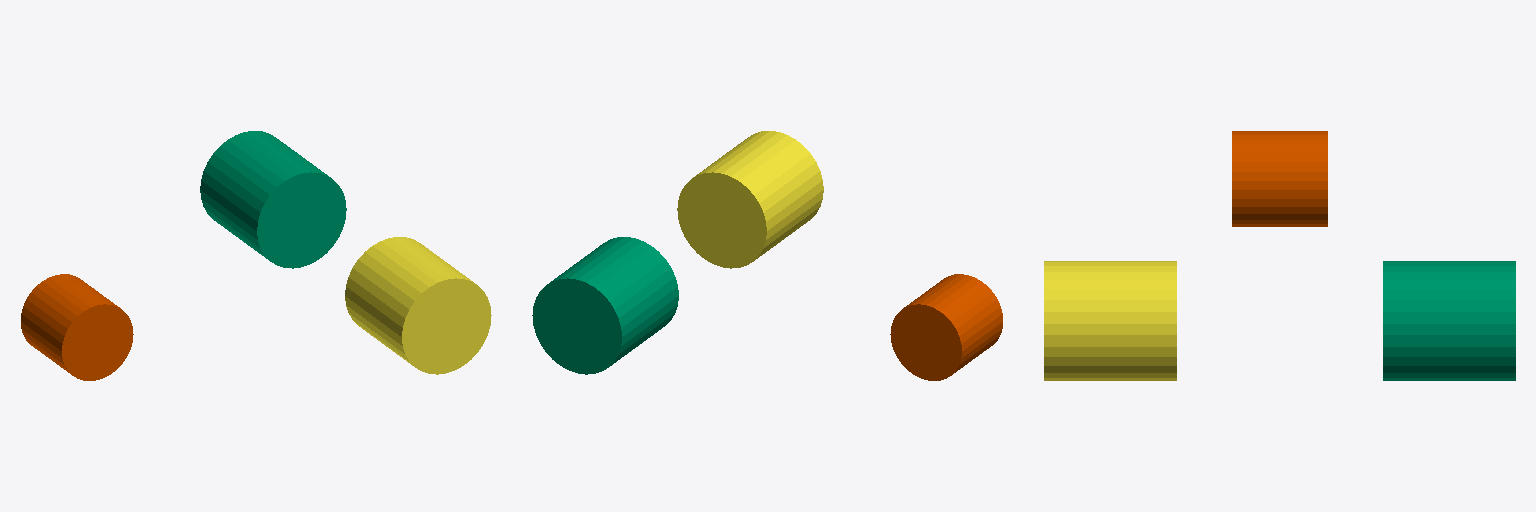
robot.urdf — crawler:
<?xml version="1.0" ?>
<!-- =================================================================================== -->
<!-- |    This document was autogenerated by xacro from crawler.xacro                  | -->
<!-- |    EDITING THIS FILE BY HAND IS NOT RECOMMENDED                                 | -->
<!-- =================================================================================== -->
<robot name="crawler">
  <!-- Base Footprint -->
  <link name="base_footprint">
    <origin rpy="0 0 0" xyz="0 0 0"/>
    <inertial>
      <mass value="1e-10"/>
      <inertia ixx="1e-10" ixy="1e-10" ixz="1e-10" iyy="1e-10" iyz="1e-10" izz="1e-10"/>
    </inertial>
  </link>
  <!--Base link for the main body-->
  <link name="base_link">
    <origin rpy="0 0 0" xyz="0 0 0"/>
    <inertial>
      <mass value="2"/>
      <inertia ixx="0.008333" ixy="0.0" ixz="0.0" iyy="0.008333" iyz="0.0" izz="0.0133333"/>
    </inertial>
    <collision>
      <geometry>
        <box size="0.2 0.2 0.05"/>
      </geometry>
    </collision>
    <visual>
      <origin xyz="-0.03 0 0.03" rpy="-1.57 0 -1.57"/>
      <geometry>
        <mesh filename="/mnt/gpu_storage/crawler-rl/IsaacGymEnvs/assets/urdf/crawler/meshes/Altiscan2t_no_wheels.dae"/>
      </geometry>
    </visual>
  </link>
  <!--base_link to base_footprint Joint-->
  <joint name="base_link_joint" type="fixed">
    <origin rpy="0 0 0" xyz="0 0 0.0425"/>
    <parent link="base_footprint"/>
    <child link="base_link"/>
  </joint>
  <link name="left_front_wheel">
    <!-- <contact>
      <lateral_friction value="1.0"/>
      <rolling_friction value="0.0"/>
      <stiffness value="100"/>
      <damping value="1000000"/>
    </contact> -->
    <collision>
      <origin rpy="1.570796326795 0 0" xyz="0 0 0"/>
      <geometry>
        <!-- <mesh filename="./crawler_front_wheel_filet.stl" /> -->
        <cylinder length="0.055" radius="0.025"/>
      </geometry>
    </collision>
    <visual>
      <origin rpy="1.570796326795 0 0" xyz="0 0 0"/>
        <geometry>
	        <!-- <mesh filename="./crawler_front_wheel_filet.stl"/>	 -->
          <cylinder length="0.055" radius="0.025"/>
      </geometry>
    </visual>
    <surface>
      <friction>
        <ode>
          <mu>1.0</mu>
          <mu2>1.0</mu2>
        </ode>
      </friction>
    </surface>
    <inertial>
      <mass value="0.8"/>
      <inertia ixx="0.0003266666666666667" ixy="0" ixz="0" iyy="0.0003266666666666667" iyz="0" izz="0.00025000000000000006"/>
    </inertial>
  </link>
  <joint name="left_front_wheel_joint" type="continuous">
    <axis rpy="0 0 0" xyz="0 1 0"/>
    <parent link="base_link"/>
    <child link="left_front_wheel"/>
    <origin rpy="0 0 0" xyz="0.0 0.07 -0.03"/>
  </joint>
  <link name="right_front_wheel">
    <!-- <contact>
      <lateral_friction value="1.0"/>
      <rolling_friction value="0.0"/>
      <stiffness value="100"/>
      <damping value="1000000"/>
    </contact> -->
    <collision>
      <origin rpy="1.570796326795 0 0" xyz="0 0 0"/>
      <geometry>
        <!-- <mesh filename="./crawler_front_wheel_filet.stl" /> -->
        <cylinder length="0.055" radius="0.025"/>
      </geometry>
    </collision>
    <visual>
      <origin rpy="1.570796326795 0 0" xyz="0 0 0"/>
      <geometry>
        <!-- <mesh filename="./crawler_front_wheel_filet.stl" /> -->
        <cylinder length="0.055" radius="0.025"/>
      </geometry>
    </visual>
    <surface>
      <friction>
        <ode>
          <mu>1.0</mu>
          <mu2>1.0</mu2>
        </ode>
      </friction>
    </surface>
    <inertial>
      <mass value="0.8"/>
      <inertia ixx="0.0003266666666666667" ixy="0" ixz="0" iyy="0.0003266666666666667" iyz="0" izz="0.00025000000000000006"/>
    </inertial>
  </link>
  <joint name="right_front_wheel_joint" type="continuous">
    <axis rpy="0 0 0" xyz="0 1 0"/>
    <parent link="base_link"/>
    <child link="right_front_wheel"/>
    <origin rpy="0 0 0" xyz="0.0 -0.07 -0.03"/>
  </joint>
  <!--Caster Wheel Joint-->
  <joint name="caster_wheel_base_joint" type="continuous">
    <axis rpy="0 0 0" xyz="0 0 1"/>
    <parent link="base_link"/>
    <child link="caster_wheel_base"/>
    <origin rpy="0 0 0" xyz="-0.13 0.0 0"/>
  </joint>
  <!--Caster Wheel Link-->
  <link name="caster_wheel_base">
    <origin rpy="0 0 0" xyz="0.0 0.0 0.0"/>
    <!-- <visual>
      <origin rpy="0 0 0" xyz="0.065 0 0"/>
      <geometry>
        <box size="0.13 0.01 0.01"/>
      </geometry>
    </visual> -->
    <inertial>
      <mass value="0.2"/>
      <inertia ixx="3.3333333333333334e-08" ixy="0.0" ixz="0.0" iyy="3.3333333333333334e-08" iyz="0.0" izz="3.3333333333333334e-08"/>
    </inertial>
  </link>
  <joint name="caster_wheel_joint" type="continuous">
    <axis rpy="0 0 0" xyz="0 1 0"/>
    <parent link="caster_wheel_base"/>
    <child link="caster_wheel"/>
    <origin rpy="0 0 0" xyz="-0.02 0 -0.035"/>
  </joint>
  <link name="caster_wheel">
    <collision>
      <origin rpy="1.570796326795 0 0" xyz="0 0 0"/>
      <geometry>
        <!-- <mesh filename="./crawler_caster_wheel_filet.stl" /> -->
        <cylinder length="0.04" radius="0.02"/>
      </geometry>
    </collision>
    <visual>
      <origin rpy="1.570796326795 0 0" xyz="0 0 0"/>
      <geometry>
        <!-- <mesh filename="./crawler_caster_wheel_filet.stl" /> -->
        <cylinder length="0.04" radius="0.02"/>
      </geometry>
    </visual>
    <surface>
      <friction>
        <ode>
          <mu>1.0</mu>
          <mu2>1.0</mu2>
        </ode>
      </friction>
    </surface>
    <inertial>
      <mass value="0.5"/>
      <inertia ixx="0.00011666666666666667" ixy="0" ixz="0" iyy="0.00011666666666666667" iyz="0" izz="0.0001"/>
    </inertial>
  </link>
</robot>

--- Facts derived from the render (not from the file) ---
The picture shows the robot from 3 angles, left to right: view 1: azimuth 30°, elevation 25°; view 2: azimuth 150°, elevation 25°; view 3: azimuth 270°, elevation 25°; orthographic projection.
Model crawler with 6 links and 5 joints (4 continuous, 1 fixed), rooted at base_footprint, posed every joint at zero.
Visible links, largest first — view 1: right_front_wheel, left_front_wheel, caster_wheel; view 2: left_front_wheel, right_front_wheel, caster_wheel; view 3: left_front_wheel, right_front_wheel, caster_wheel.
Link boxes in pixels (x1,y1,x2,y2): right_front_wheel: [345, 237, 491, 374]; left_front_wheel: [200, 131, 346, 268]; caster_wheel: [21, 274, 133, 380]; left_front_wheel: [532, 237, 678, 374]; right_front_wheel: [677, 131, 823, 268]; caster_wheel: [890, 274, 1002, 380]; left_front_wheel: [1383, 261, 1515, 380]; right_front_wheel: [1044, 261, 1176, 380]; caster_wheel: [1232, 131, 1327, 226].
Bounding box of the posed robot: 0.195 × 0.195 × 0.05 m (x, y, z).
Geometry: only primitive shapes (box / cylinder / sphere) drawn; not drawn: 1 mesh visual (reference in a form the renderer does not follow).
